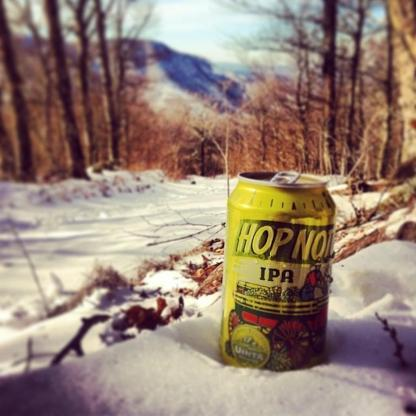Can: (222, 168, 336, 370)
